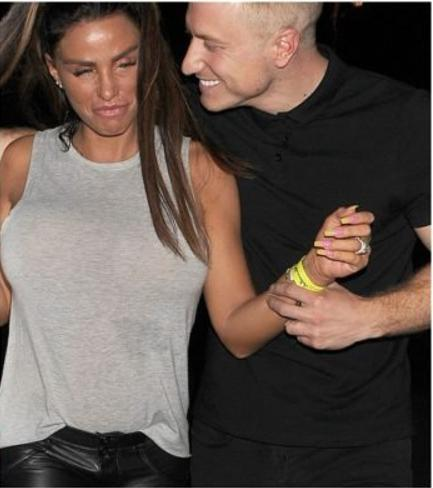Drunk: (178, 4, 278, 116), (64, 24, 143, 131)
